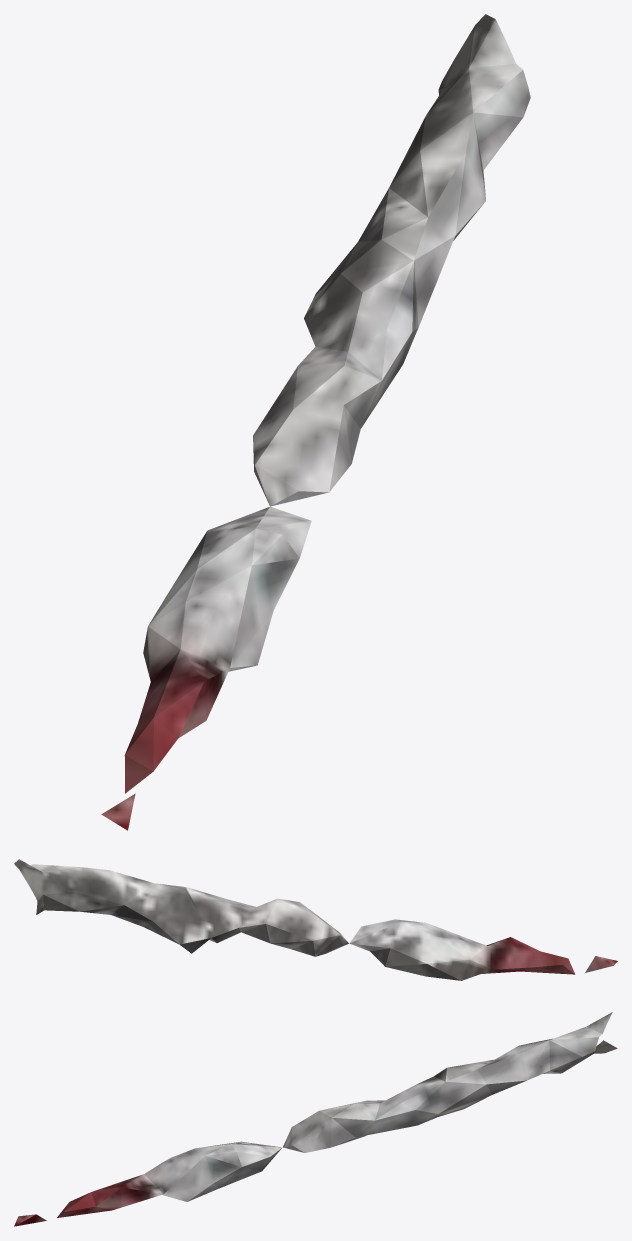
3 renders of one model, top to bottom at view 1: azimuth 30°, elevation 25°; view 2: azimuth 150°, elevation 25°; view 3: azimuth 330°, elevation 25°, orthographic. The views are drawn at different scales.
Size of the model in its own units: 0.2804 by 0.1093 by 0.2608.
Materials: 1 (1 with a texture image).
